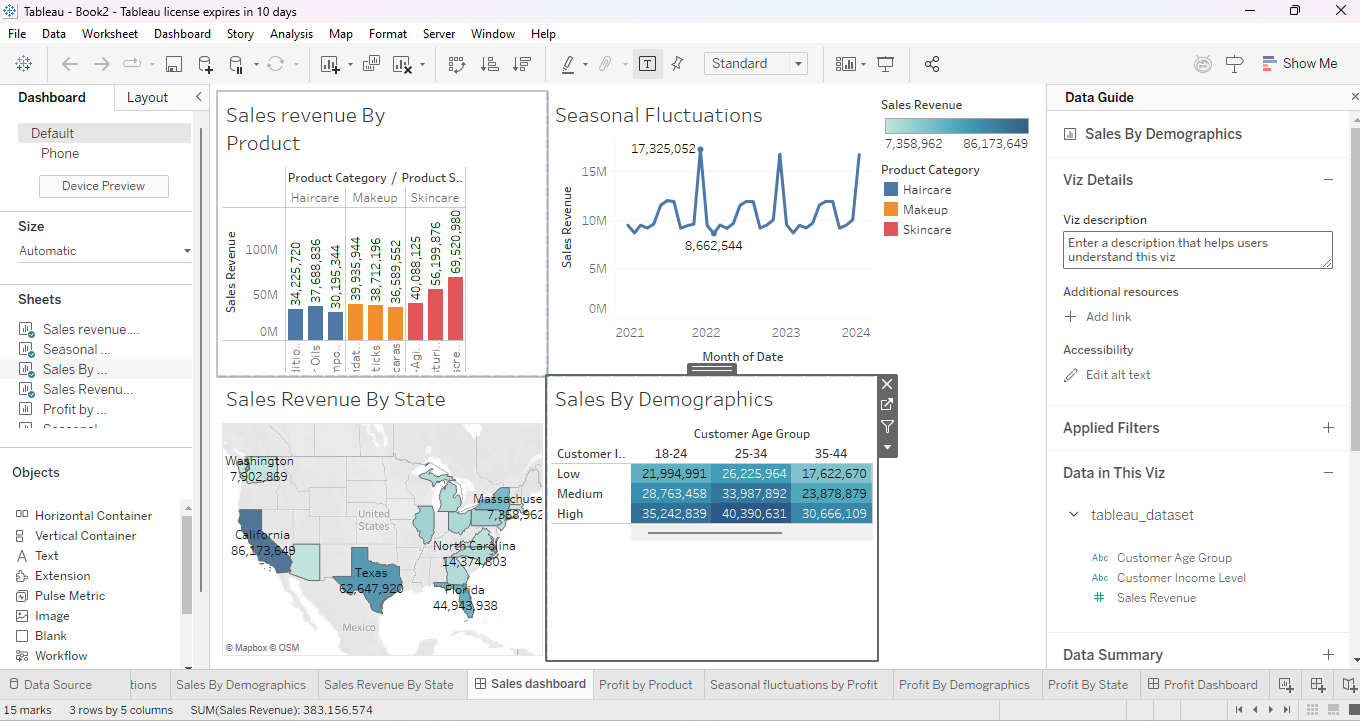

This screenshot's page, from the dashboard's own definition file:
{"tool":"tableau","page":{"name":"Sales dashboard","canvas":[1000,1000],"units":"permille","ordinal":1},"visuals":[{"type":"worksheet","title":"Sales revenue By Product","mark":"Automatic","rows":["SalesRevenue"],"cols":["ProductCategory","ProductSubcategory"],"box":[6.7,14.7,426.4,485.3]},{"type":"worksheet","title":"Seasonal Fluctuations","mark":"Automatic","rows":["SalesRevenue"],"cols":["Date"],"box":[433.1,14.7,426.4,485.3]},{"type":"legend","title":"Sales Revenue By State","param":"[federated.0wdq8iu17xqobh1b6g7o61b6hv7f].[sum:SalesRevenue:qk]","box":[859.4,14.7,133.9,119.5]},{"type":"legend","title":"Sales revenue By Product","param":"[federated.0wdq8iu17xqobh1b6g7o61b6hv7f].[none:ProductCategory:nk]","box":[859.4,134.2,133.9,158.1]},{"type":"worksheet","title":"Sales Revenue By State","mark":"Automatic","box":[6.7,500,426.3,485.3]},{"type":"worksheet","title":"Sales By Demographics","mark":"Square","rows":["CustomerIncomeLevel"],"cols":["CustomerAgeGroup"],"box":[433,500,426.4,485.3]}]}

Visuals, with their boxes on the dashboard's canvas, which has no fixed pixel size, in thousandths of its width and height (x1, y1, x2, y2). These are canvas units, not pixel positions in the 1360x721 screenshot, which may show the page scaled, cropped or inside an application window:
"Sales revenue By Product" worksheet: bbox=(7, 15, 433, 500)
"Seasonal Fluctuations" worksheet: bbox=(433, 15, 860, 500)
"Sales Revenue By State" legend: bbox=(859, 15, 993, 134)
"Sales revenue By Product" legend: bbox=(859, 134, 993, 292)
"Sales Revenue By State" worksheet: bbox=(7, 500, 433, 985)
"Sales By Demographics" worksheet (Square marks): bbox=(433, 500, 859, 985)
